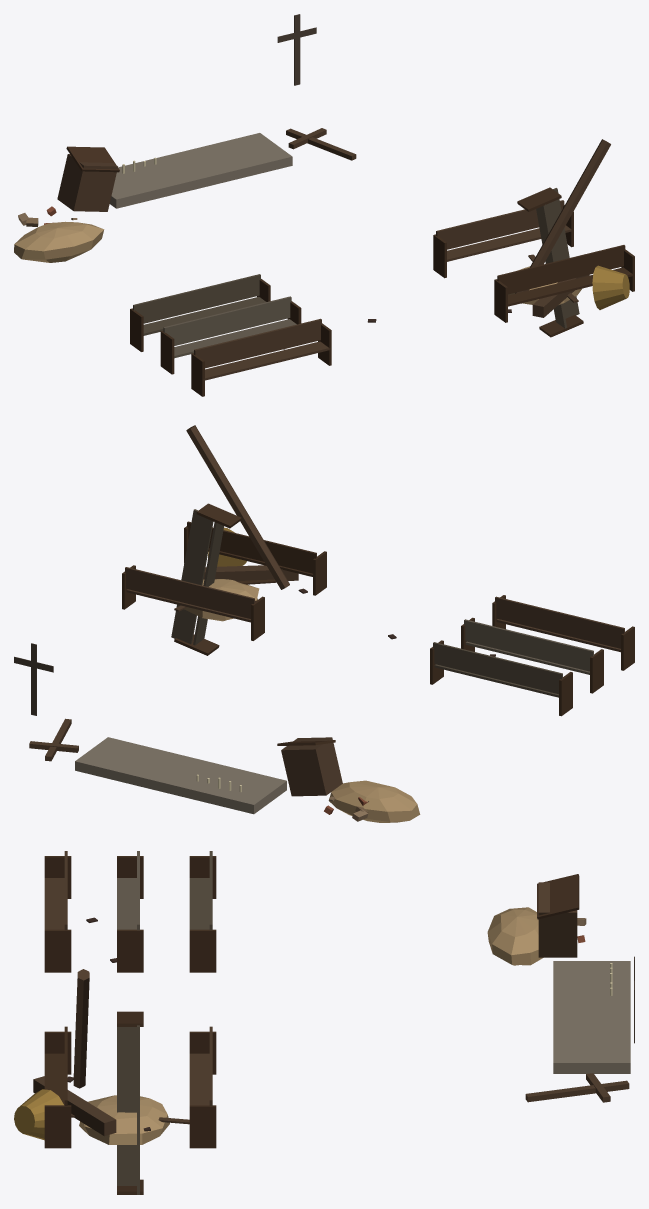
File: TownRoom_church.glb
3 views of the same model, one above another, from view 1: azimuth 30°, elevation 25°; view 2: azimuth 150°, elevation 25°; view 3: azimuth 270°, elevation 25° (orthographic). The views are drawn at different scales.
Visible parts, largest first — view 1: TownRoom_church.001; view 2: TownRoom_church.001; view 3: TownRoom_church.001.
Boxes of the visible parts, x1=… form: TownRoom_church.001: x1=14, y1=14, x2=634, y2=396; TownRoom_church.001: x1=14, y1=425, x2=634, y2=822; TownRoom_church.001: x1=14, y1=851, x2=634, y2=1194.
Size of the model in its own units: 12.27 by 5.39 by 12.85.
